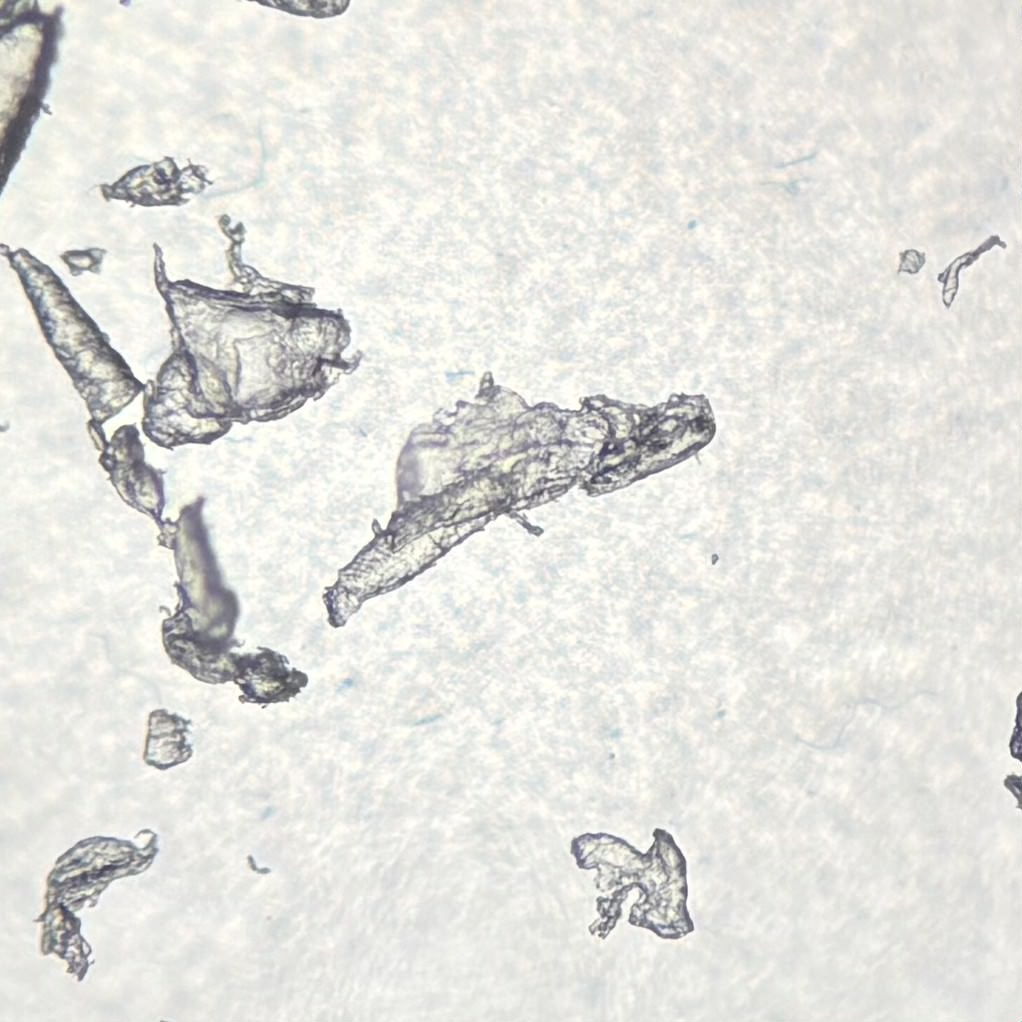microplastic: (1, 242, 309, 710), (321, 371, 717, 630), (140, 213, 365, 453), (32, 829, 158, 983), (570, 826, 695, 940), (1, 1, 63, 203), (96, 157, 214, 208), (938, 233, 1009, 309), (142, 710, 194, 771), (1002, 691, 1022, 821), (235, 1, 353, 21), (58, 248, 109, 276), (897, 248, 926, 276)
